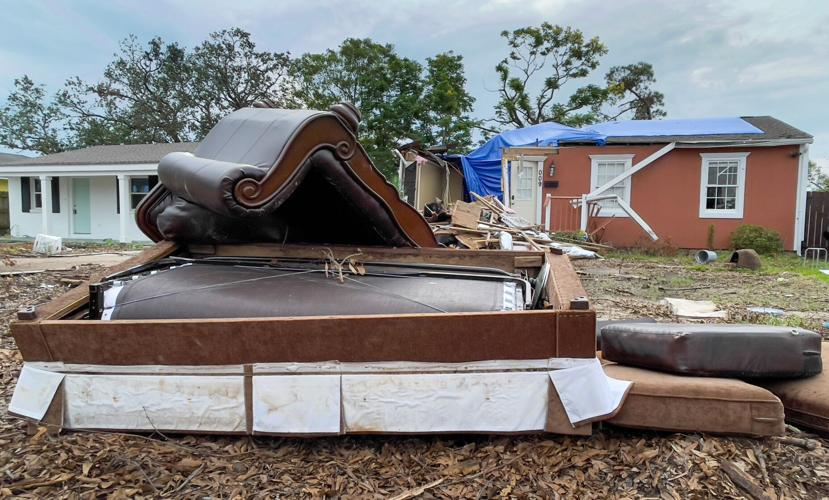affected: (0, 134, 203, 266)
major: (396, 108, 821, 258)
